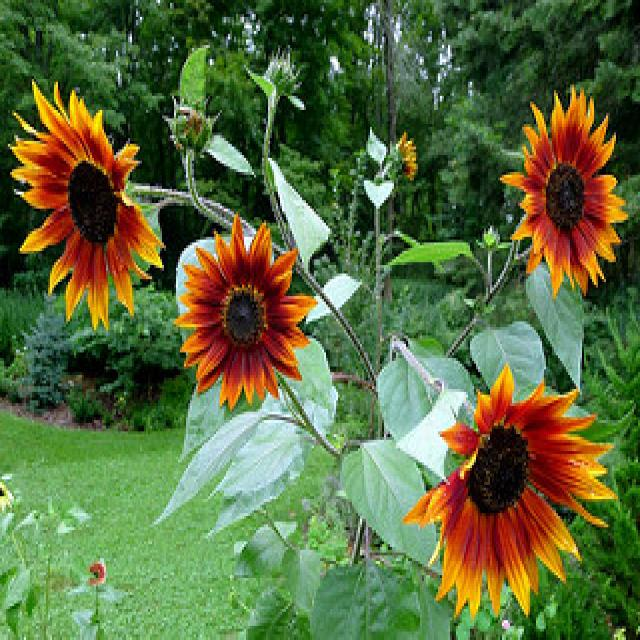sunflower: (404, 360, 616, 624), (6, 79, 162, 338), (496, 79, 638, 304), (173, 207, 321, 410), (388, 128, 419, 186)
